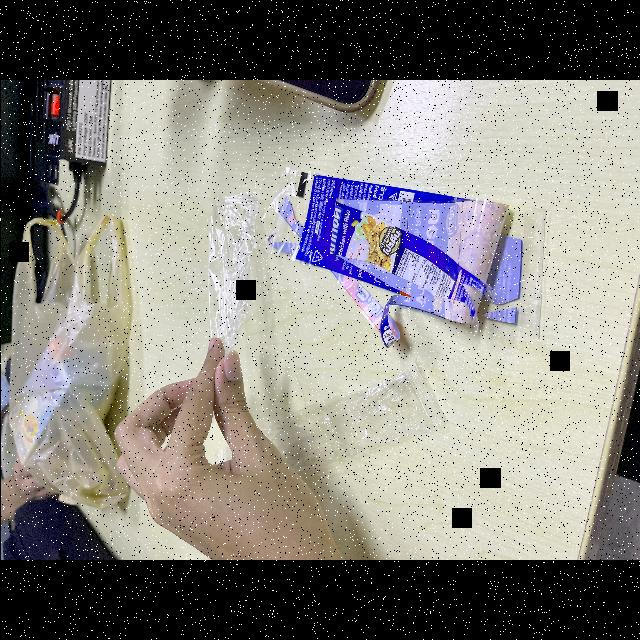scrap_plastic: (281, 156, 555, 342), (296, 361, 442, 464), (191, 188, 265, 384)
